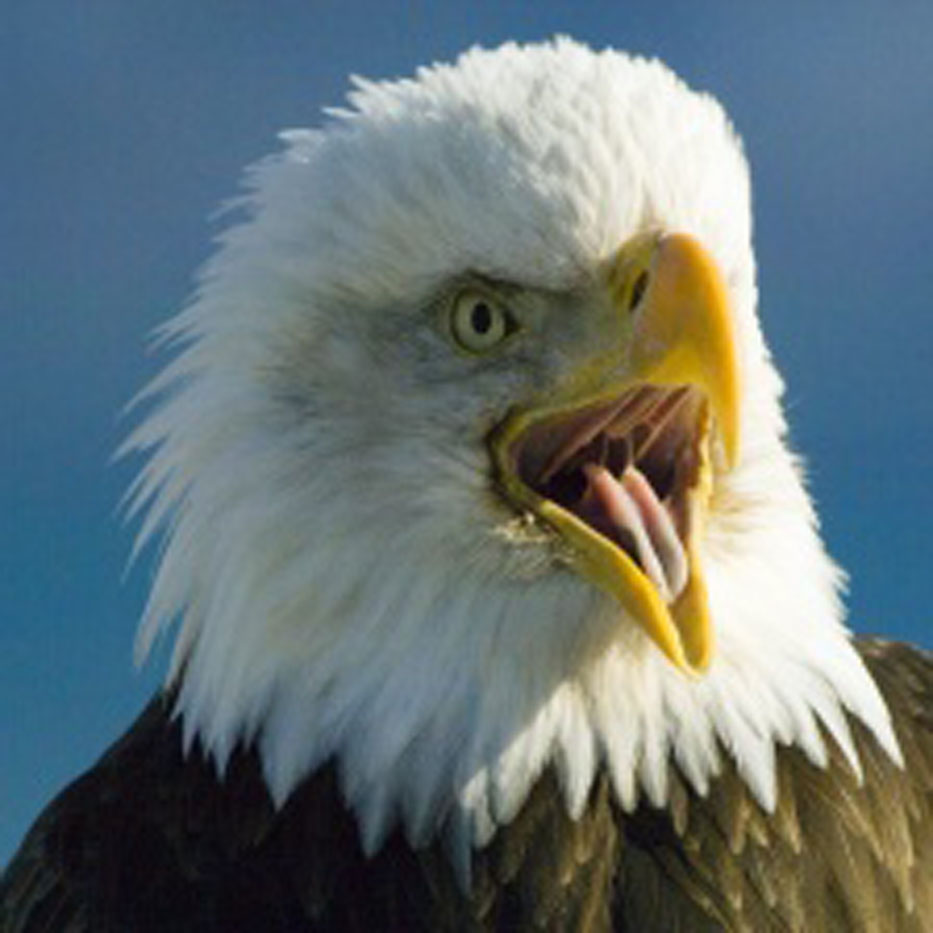Pengoyak Daging: (554, 229, 759, 670)
